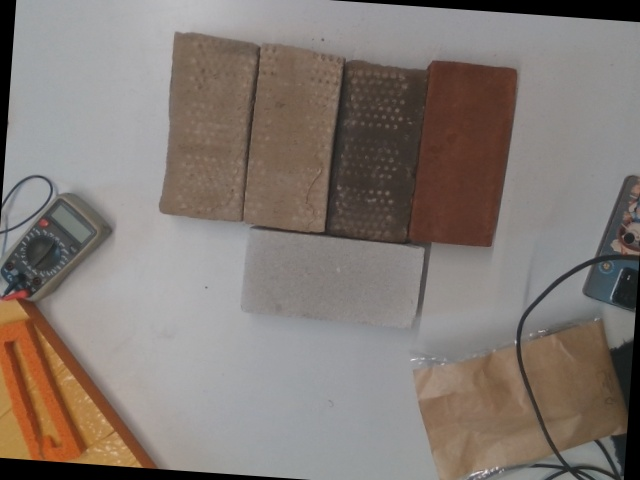brick: (414, 61, 518, 251), (243, 47, 344, 232), (239, 228, 424, 328), (160, 35, 256, 221), (330, 64, 425, 241)
